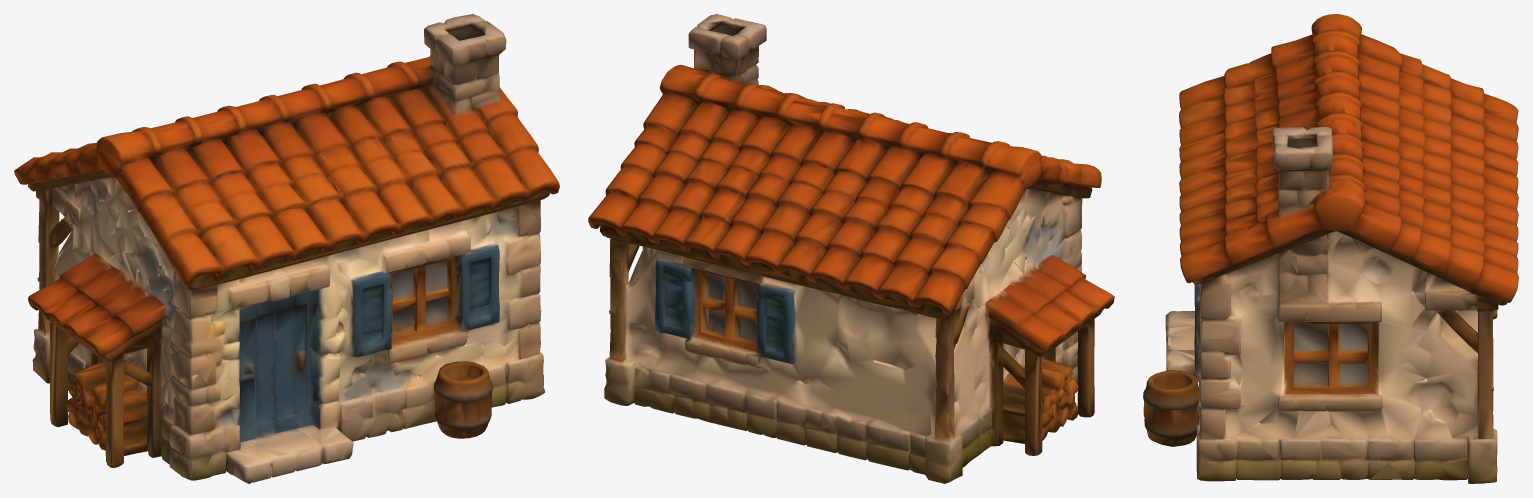
The model's file is Piece08.fbx.
3 views of the same model, side by side, from view 1: azimuth 30°, elevation 25°; view 2: azimuth 150°, elevation 25°; view 3: azimuth 270°, elevation 25° (orthographic). The views are drawn at different scales.
Visible parts, largest first — view 1: Piece08; view 2: Piece08; view 3: Piece08.
Boxes of the visible parts, x1,y1,x2,y2 form: Piece08: (14,14,559,483); Piece08: (588,14,1114,483); Piece08: (1143,14,1518,483).
Size of the model in its own units: 100 by 74.1 by 76.02.
Materials: 1 (1 with a texture image).
